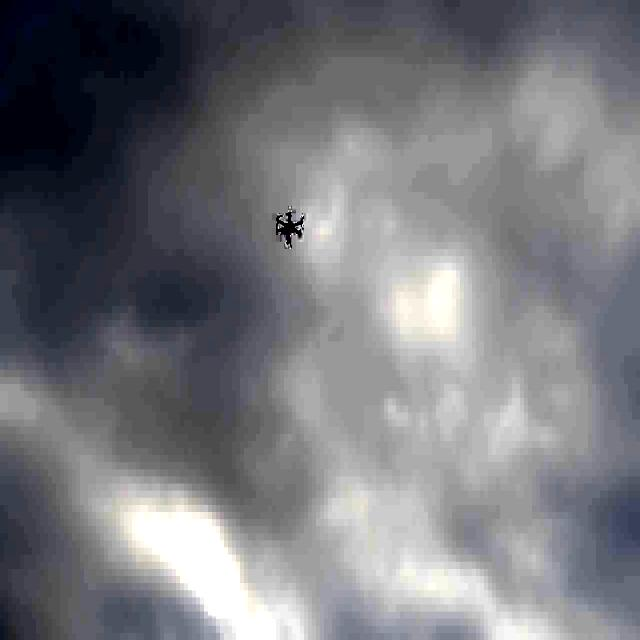drone: (270, 204, 307, 246)
